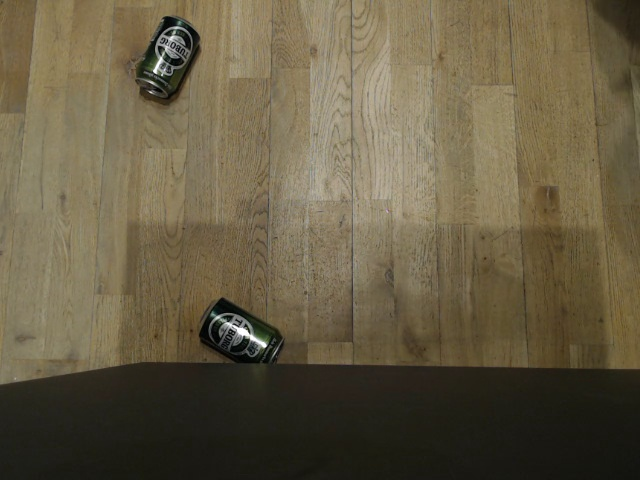beer: (193, 294, 286, 368), (133, 14, 204, 102)
